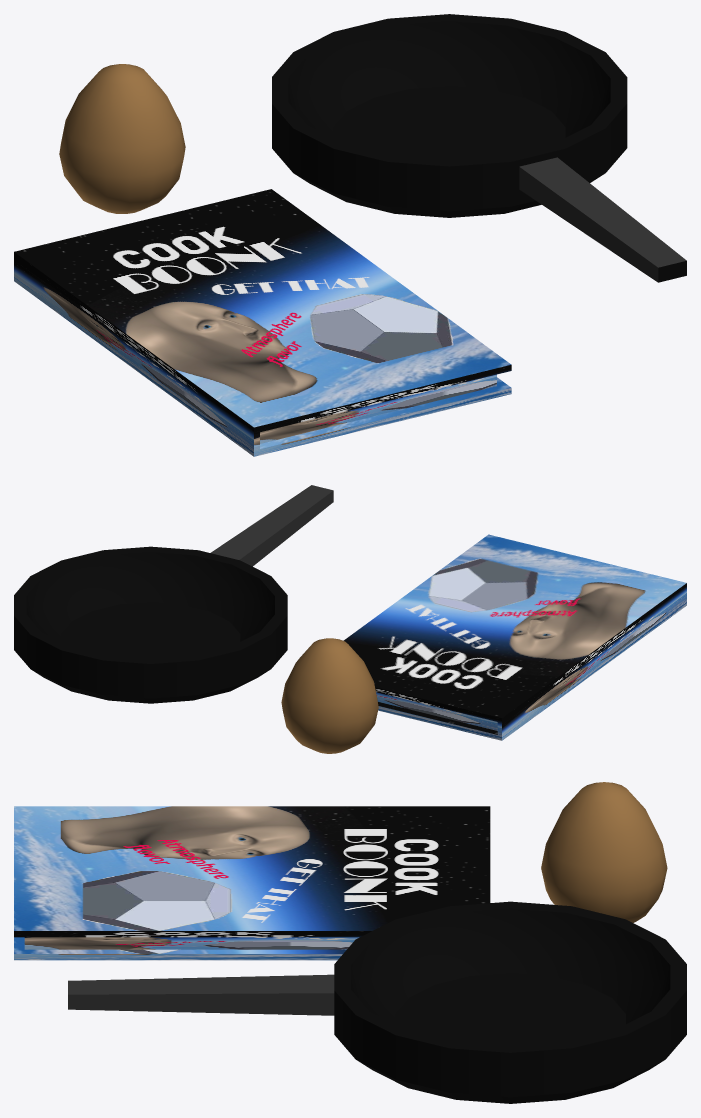
Rendered from SM_Objectives.FBX.
3 renders of one model, top to bottom at view 1: azimuth 30°, elevation 25°; view 2: azimuth 150°, elevation 25°; view 3: azimuth 270°, elevation 25°, orthographic. The views are drawn at different scales.
Visible parts, largest first — view 1: Box001, Cylinder001, Sphere001; view 2: Box001, Cylinder001, Sphere001; view 3: Cylinder001, Box001, Sphere001.
Boxes of the visible parts, bbox=[...] form: Box001: bbox=[14, 189, 511, 456]; Cylinder001: bbox=[272, 14, 686, 282]; Sphere001: bbox=[59, 64, 185, 213]; Box001: bbox=[343, 534, 686, 740]; Cylinder001: bbox=[14, 485, 333, 703]; Sphere001: bbox=[281, 638, 378, 753]; Cylinder001: bbox=[68, 901, 686, 1103]; Box001: bbox=[14, 806, 490, 960]; Sphere001: bbox=[541, 782, 667, 922].
Bounding box in the file's own units: 158 × 36.32 × 155.
4 materials, 1 textured.
